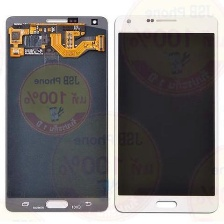phone: (112, 12, 221, 215), (3, 13, 108, 215)
